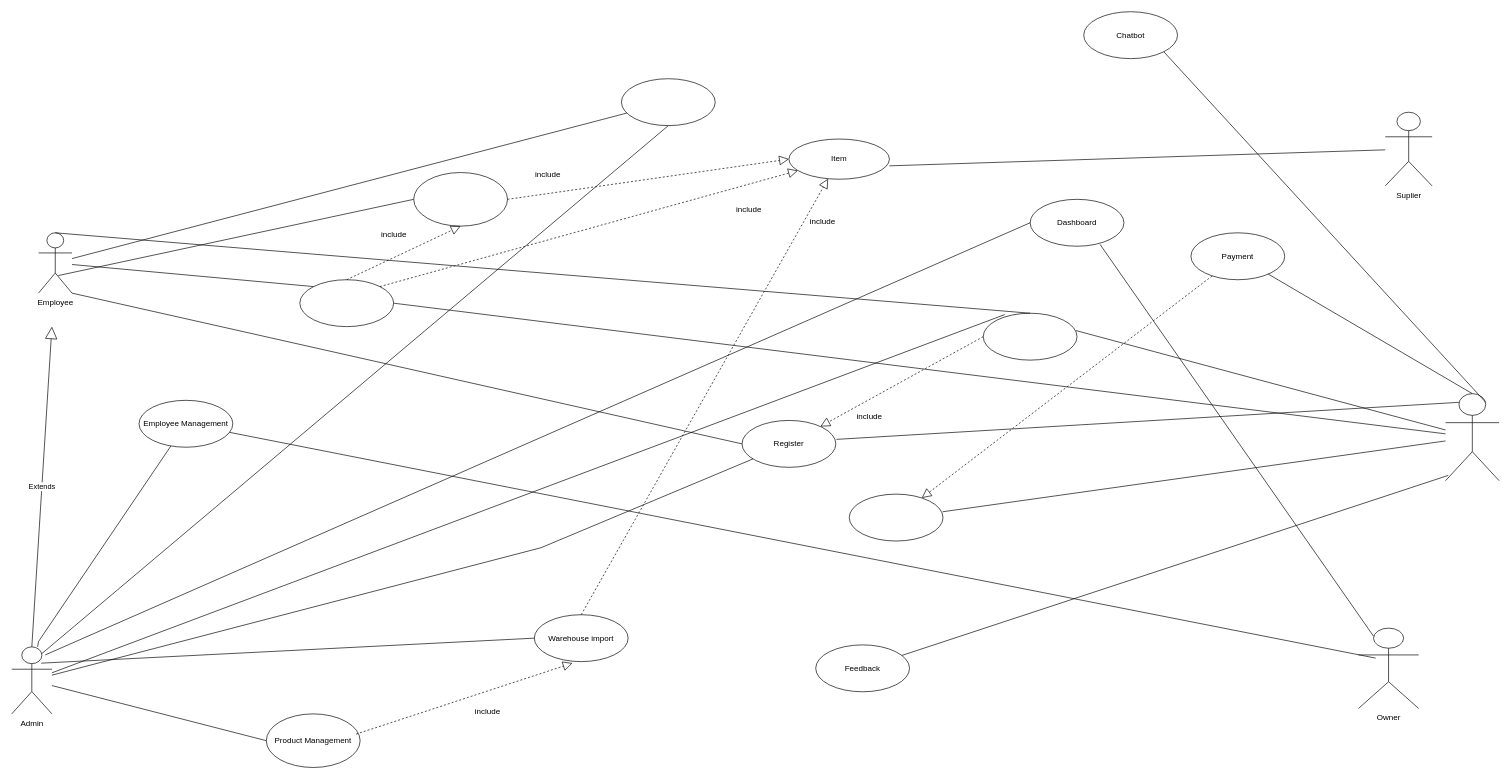
This 1511x779 diagram has some shape labels left out. Here are the shapes that lost their labels. From the top down, the centre of each, then its label:
(668,102): Sales
(460,199): Category
(346,303): Product
(1030,336): Login
(1472,437): User
(896,517): OrderDetails
